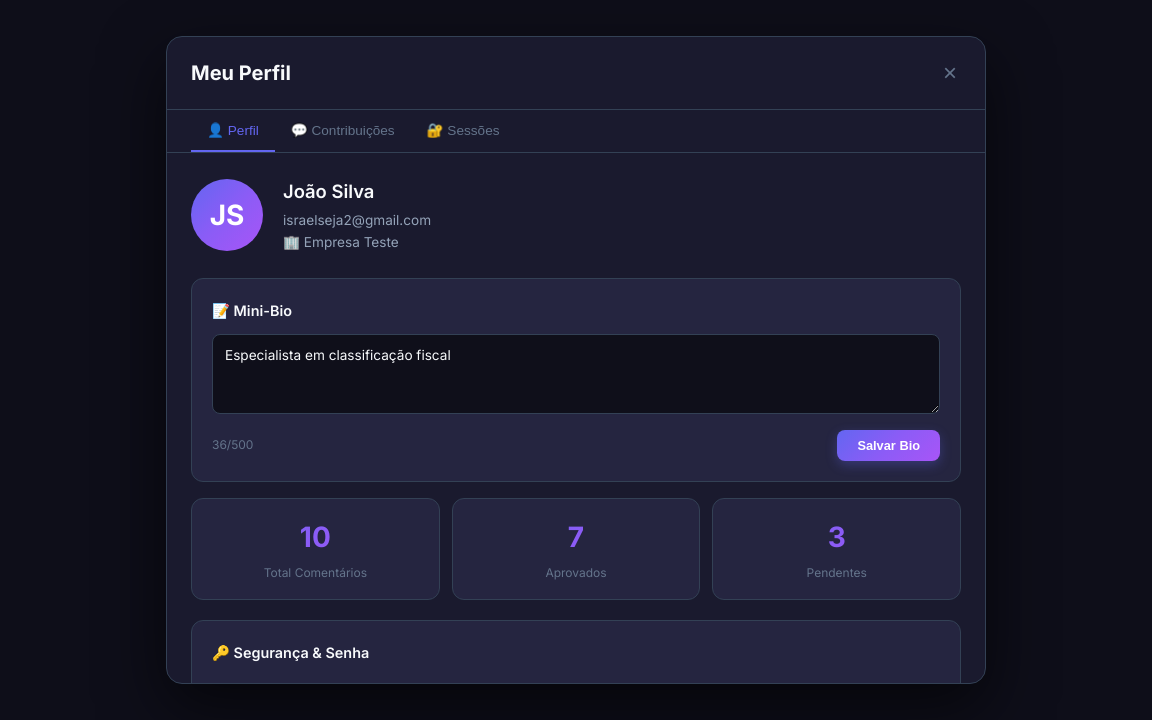
Test: UserProfilePage › edita e salva bio com sucesso
The width and height of the screenshot is (1152, 720).
Replace the text in the text box with placeholder "Conte um pouco sobre você..." with "Nova bio aqui" at (576, 374), box [212,334,940,414]
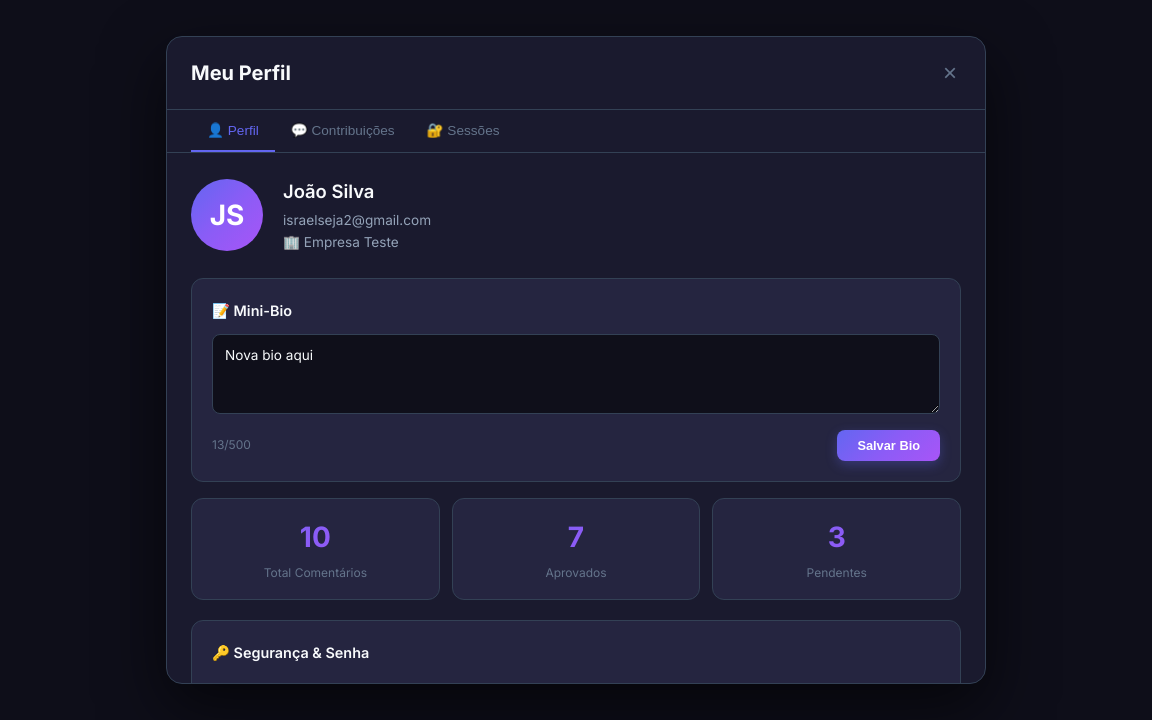
# Clica em salvar
Click the button "Salvar Bio".
click(889, 445)  # box [837,430,940,461]
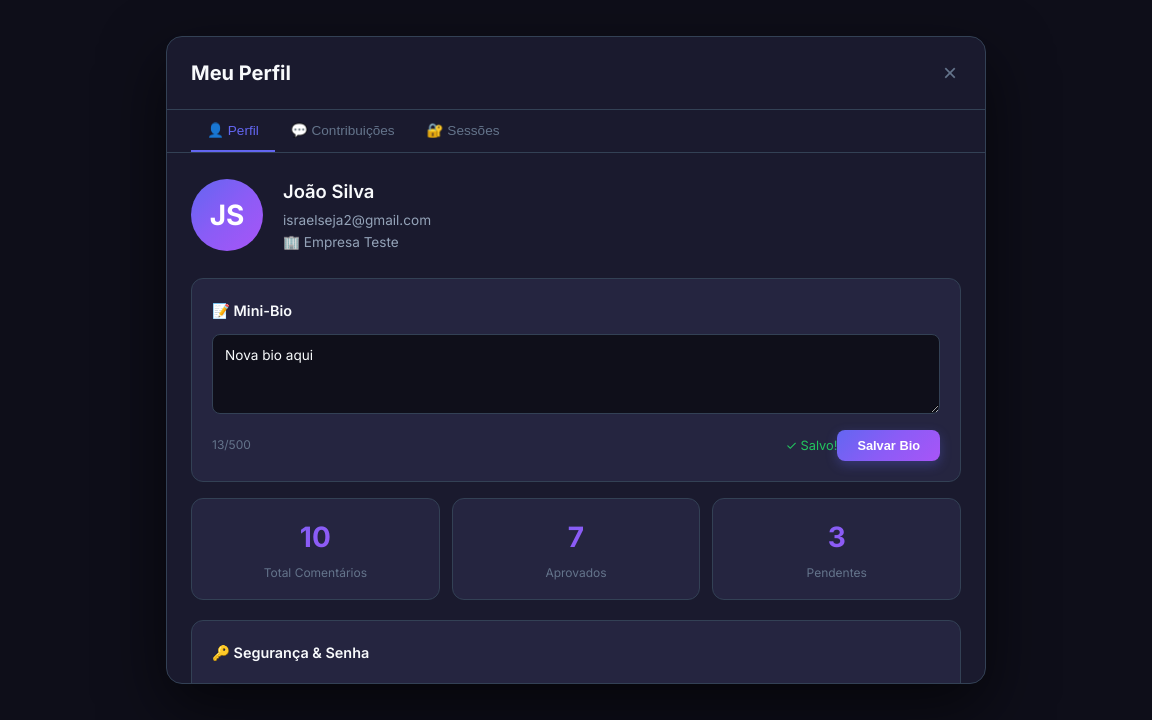
Expected: the text "✓ Salvo!" is shown, [786,438,837,453]
